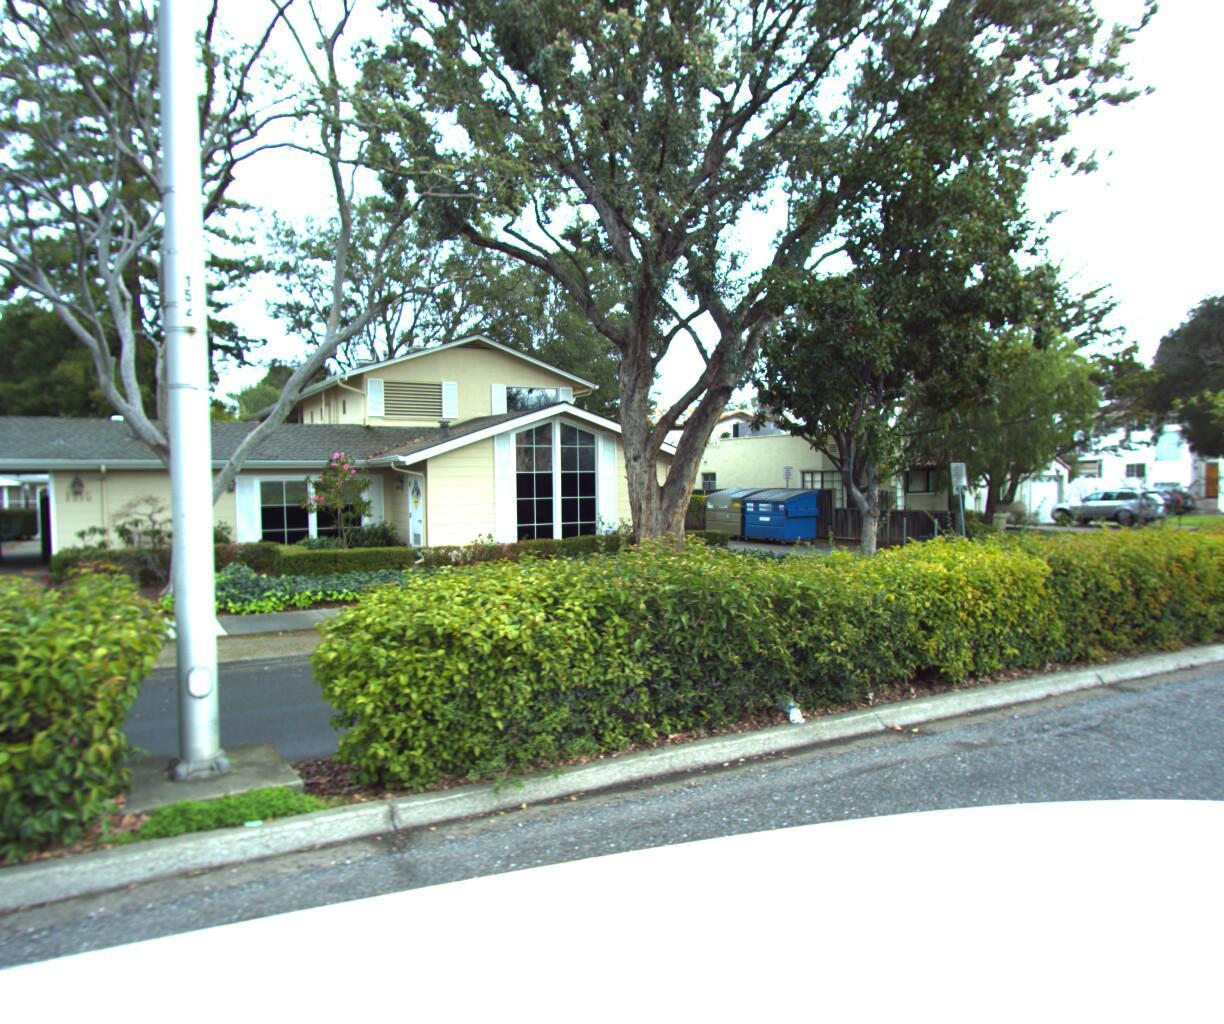car: (1047, 484, 1175, 527)
